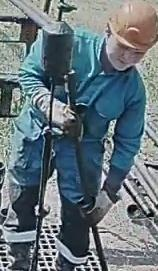gloves: (30, 85, 88, 141), (75, 183, 119, 228)
helmet: (103, 1, 158, 53)
vest: (29, 28, 137, 189)
